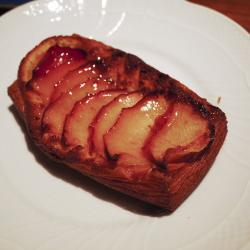apple_pie: (13, 37, 233, 223)
